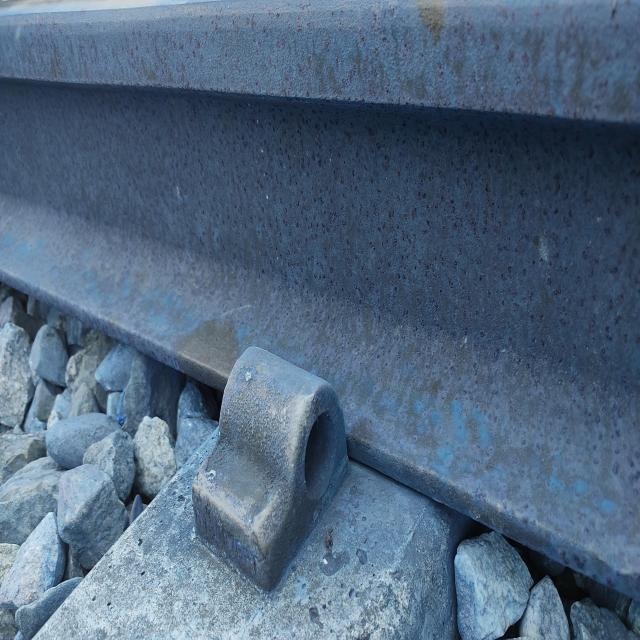Missing Fastener: (160, 321, 359, 601)
